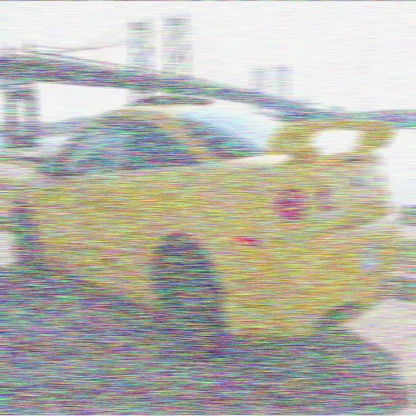Vehicle: (12, 93, 407, 378)
